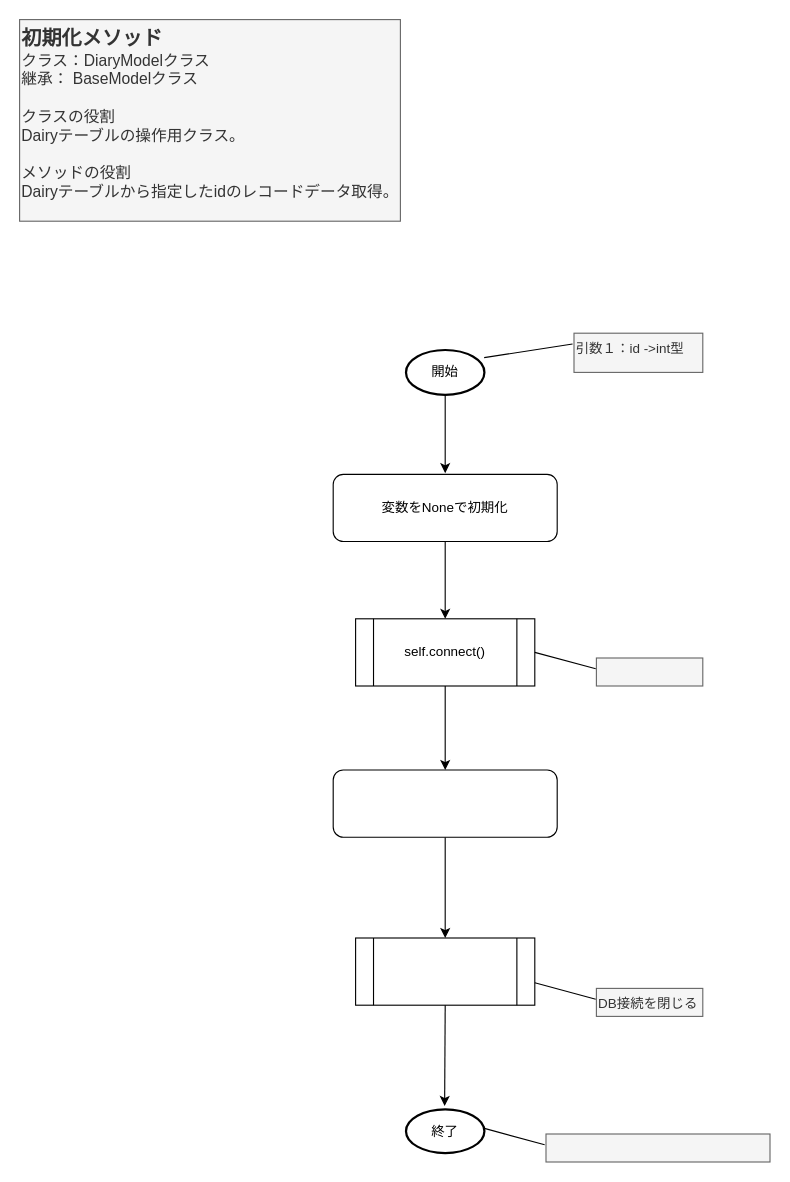
Some shapes in this 790 by 1182 pixel diagram are drawn without their labels. The centre of each missing label's shape, as x and y in pixels:
DB接続を確立: [649,671]
Diaryテーブルから 受け取った引数1のコードデータを取得し、変数に代入: [444,803]
self.close(): [444,971]
戻り値：取得したレコードデータ: [657,1147]
